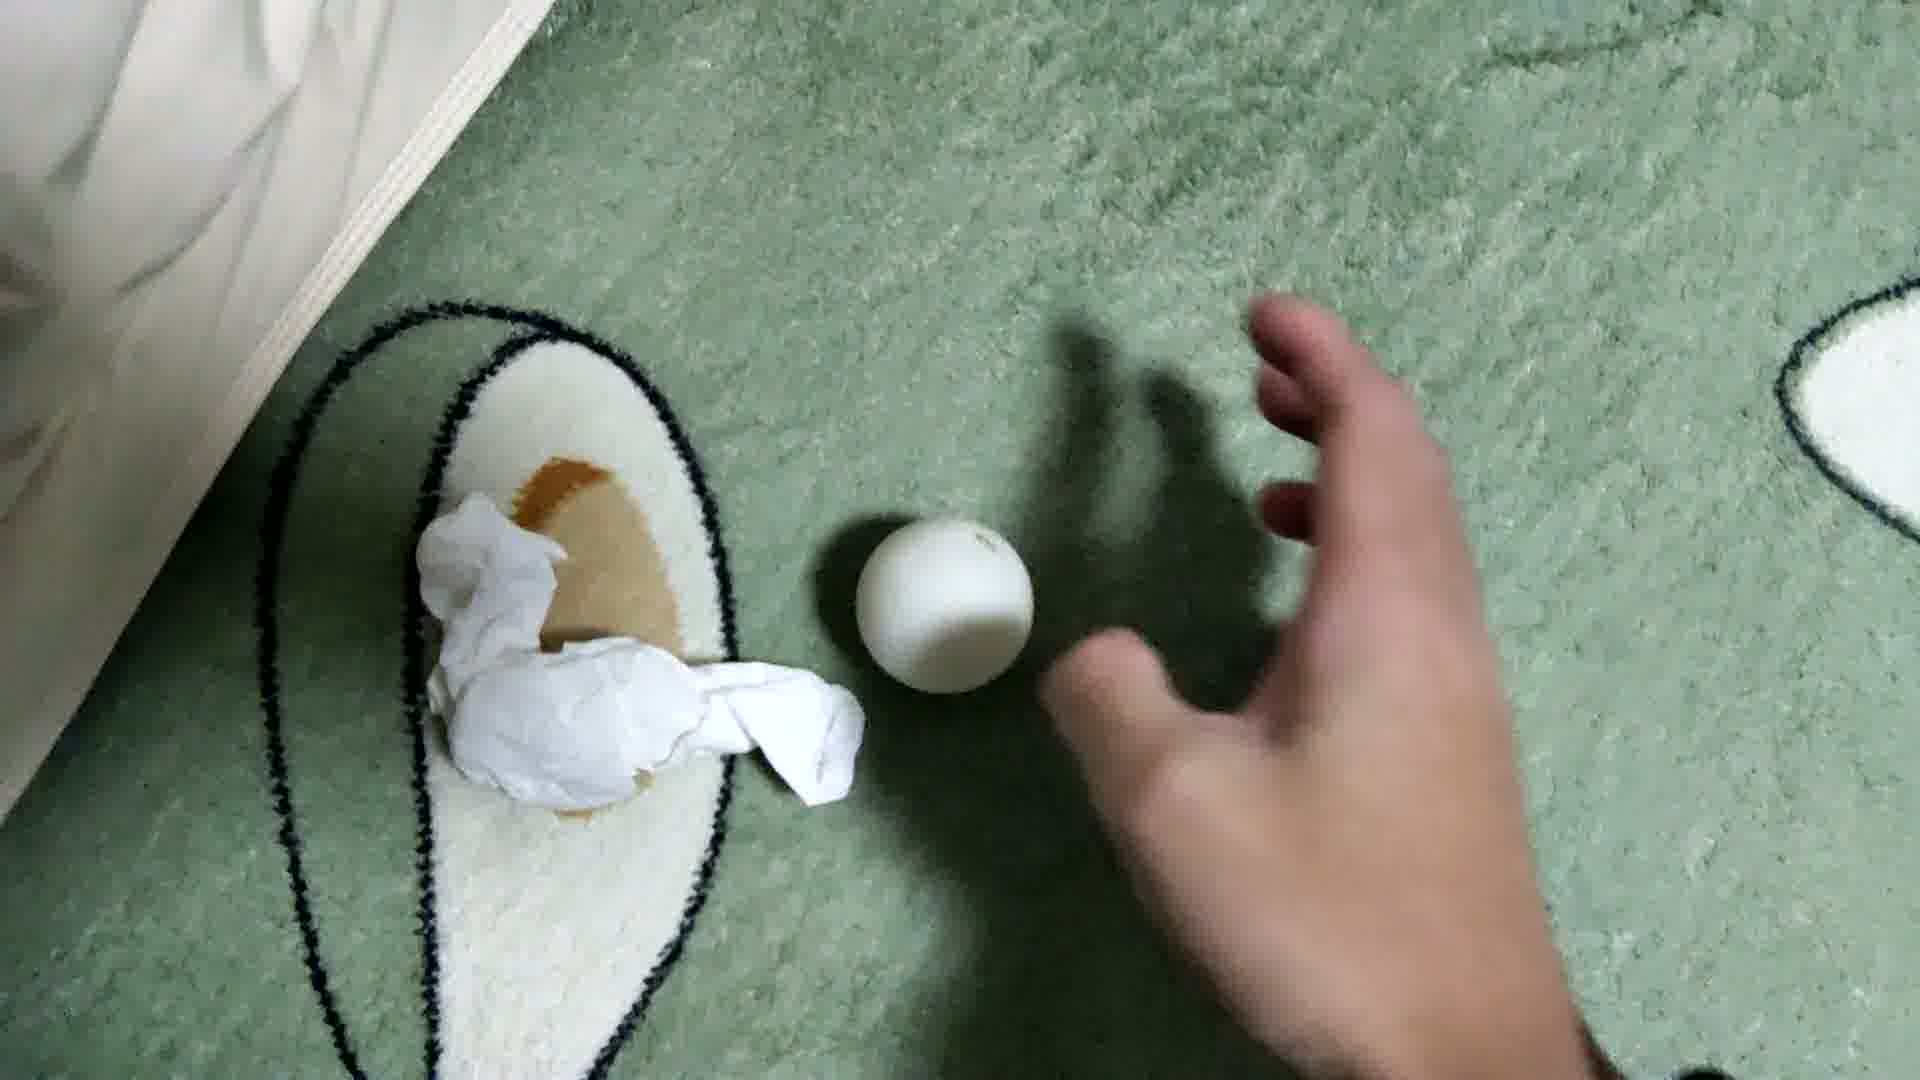Ball: (855, 516, 1030, 692)
